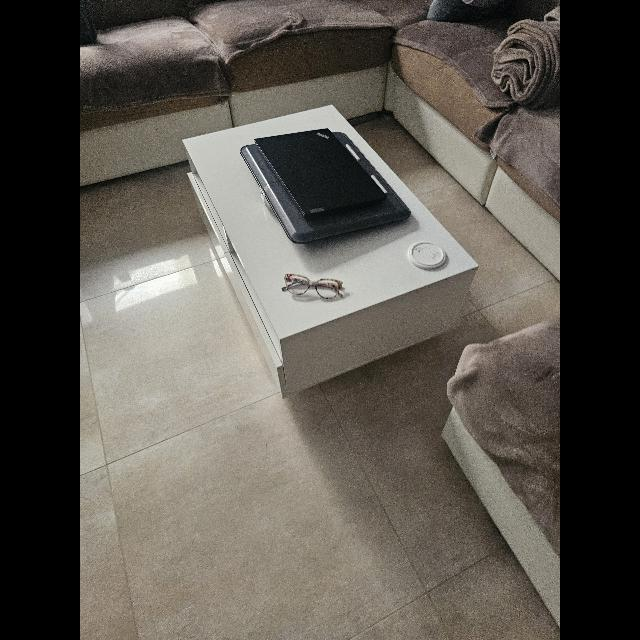glasses: (282, 274, 342, 300)
